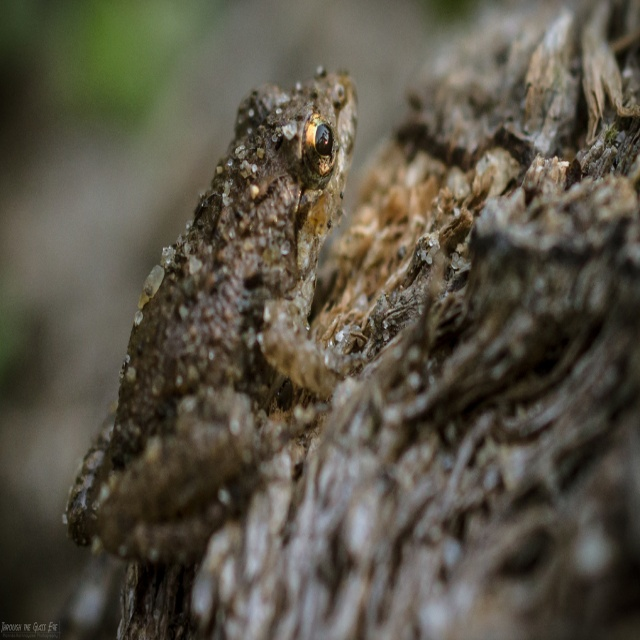Frog: (65, 71, 373, 577)
